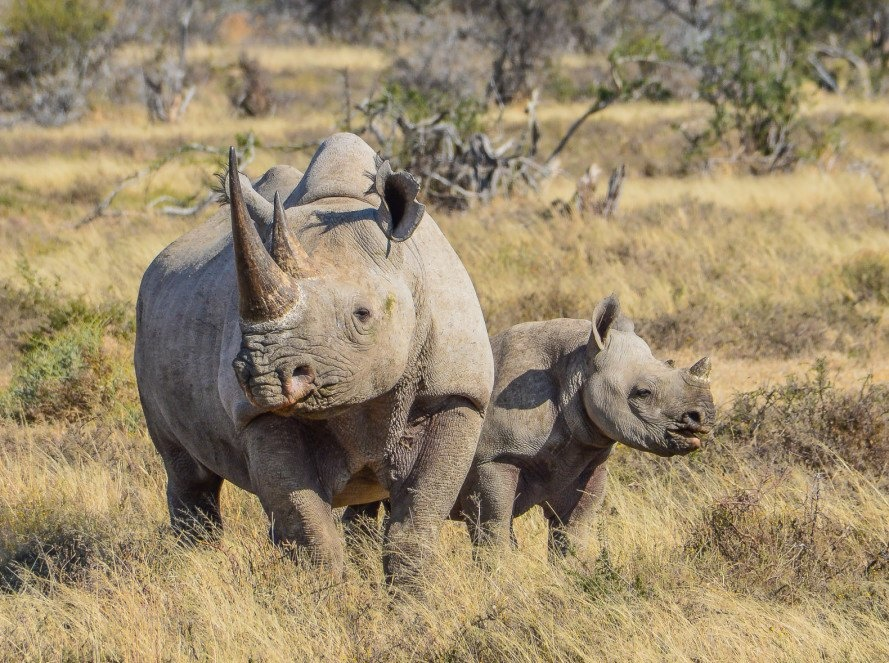rhino: (127, 128, 498, 601), (450, 286, 712, 570)
